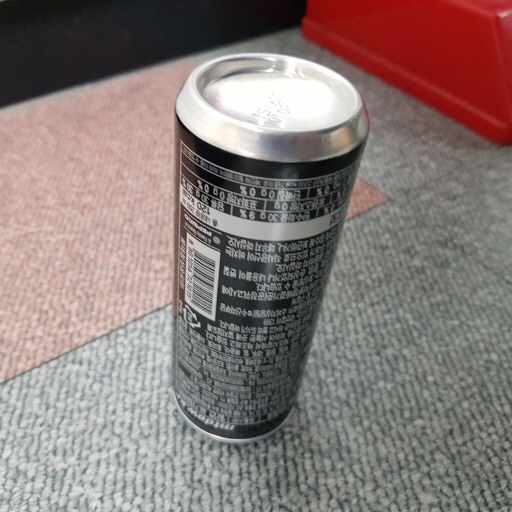Metal_0: (171, 52, 368, 443)
